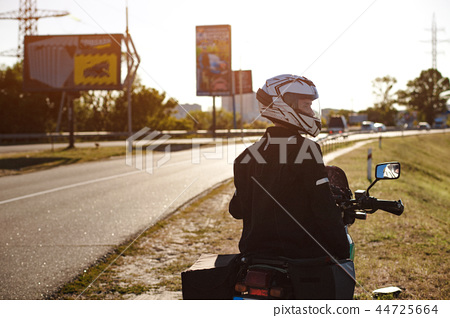helmet: (257, 68, 325, 132)
